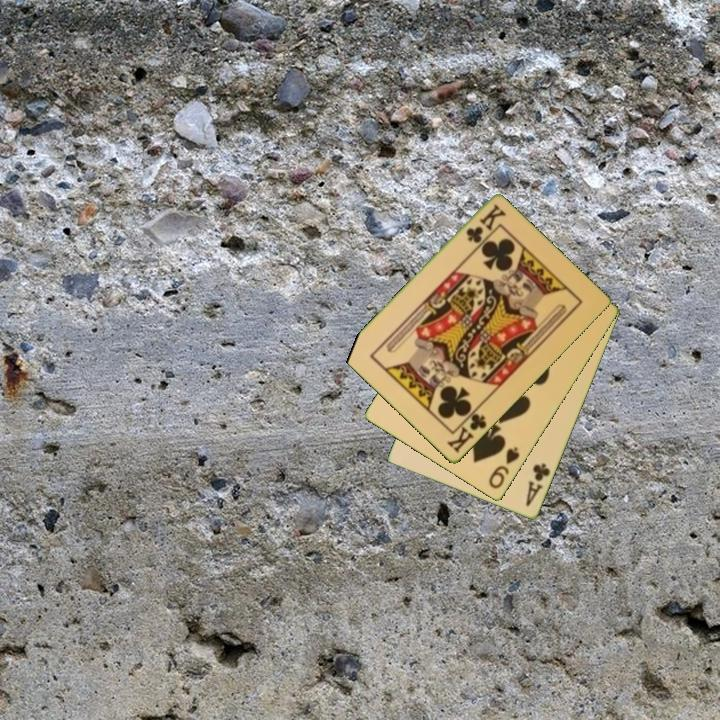9s: (485, 444, 523, 492)
Ac: (522, 460, 553, 510)
Kc: (444, 404, 490, 456), (462, 201, 508, 247)
